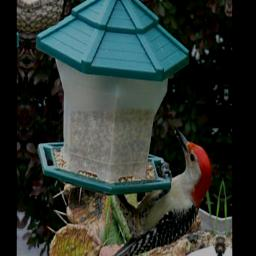Woodpecker: (104, 122, 214, 256)
